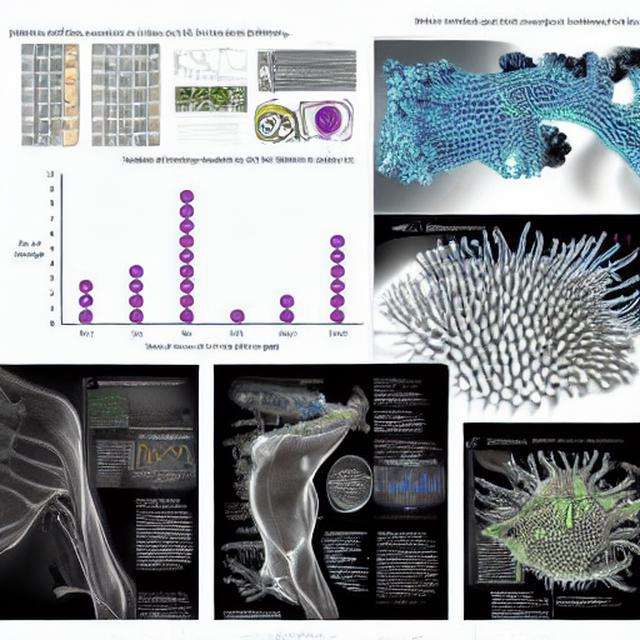Graph: (4, 147, 373, 360), (120, 433, 199, 486), (373, 458, 441, 507), (199, 44, 251, 83)
